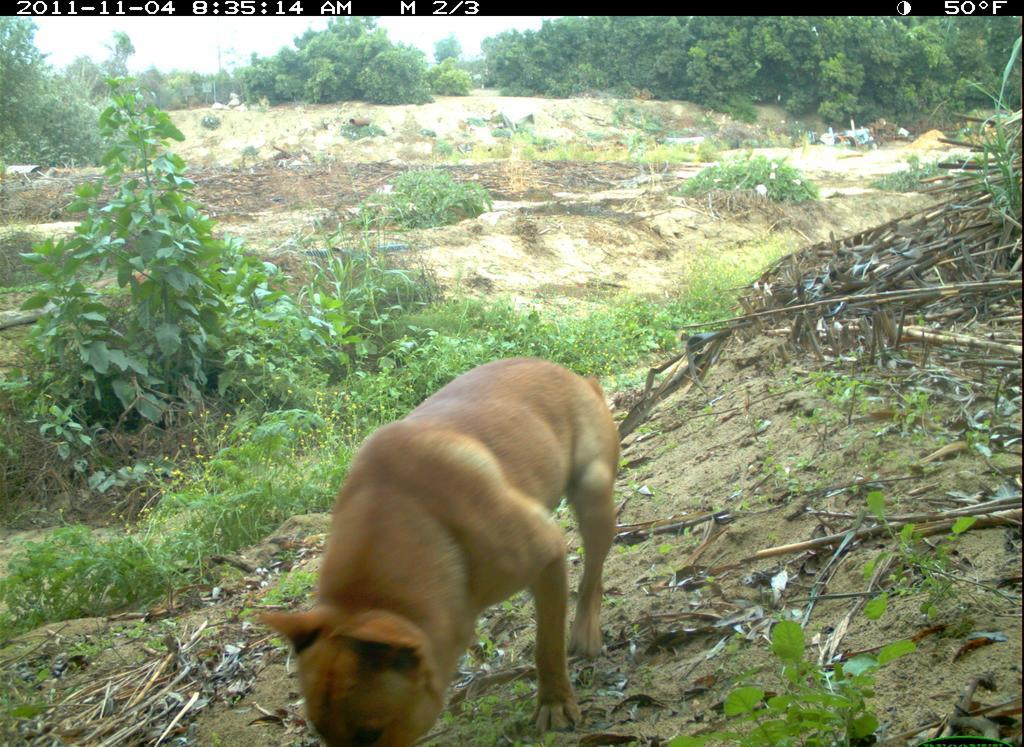dog: (258, 337, 623, 747)
